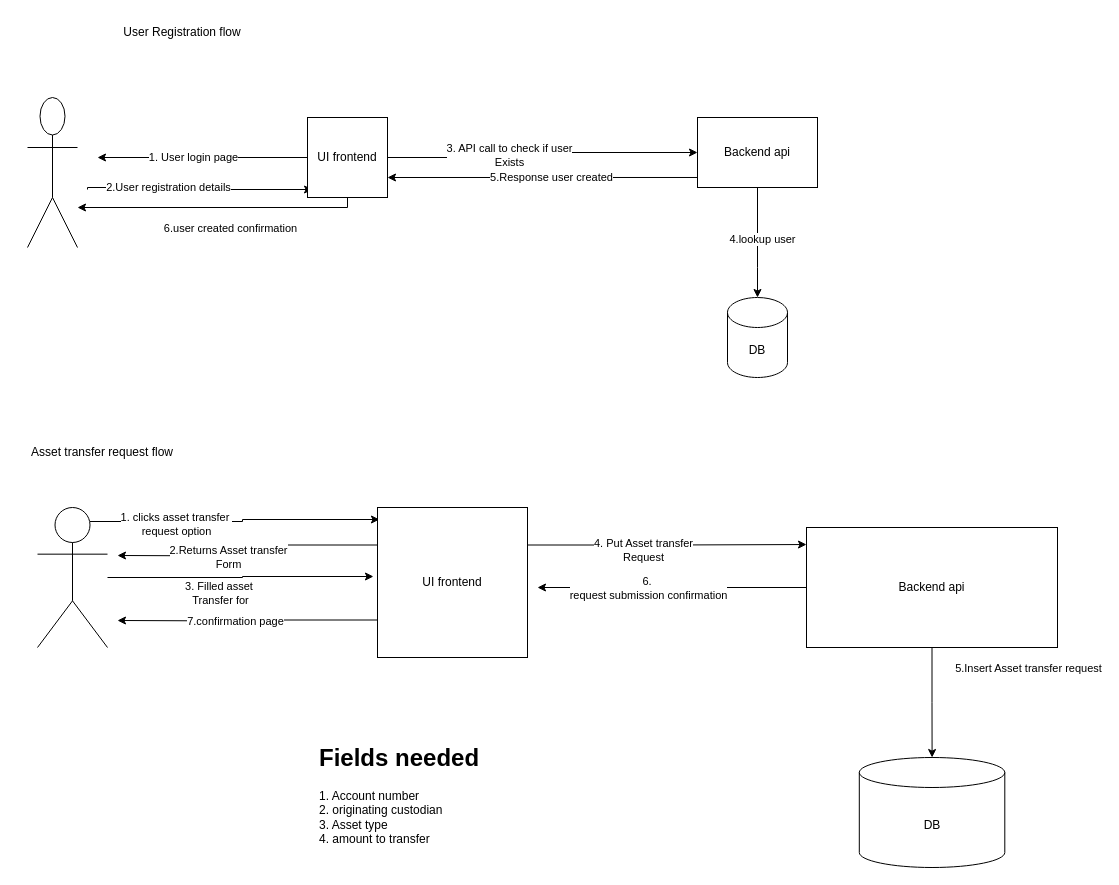
Image size: 1119x885. Some labels were removed from this diagram. The centre of each missing label's shape, as x and y in pixels:
Client: the point at 52,172
User: the point at 72,577
